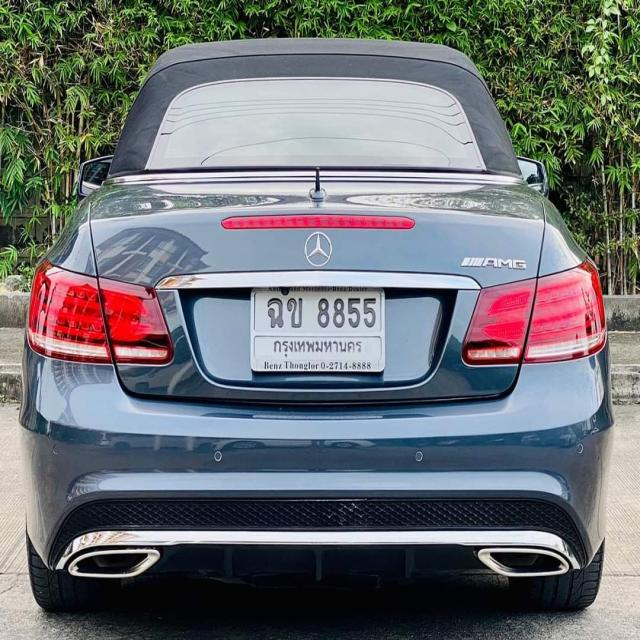license_plate: (249, 286, 386, 372)
